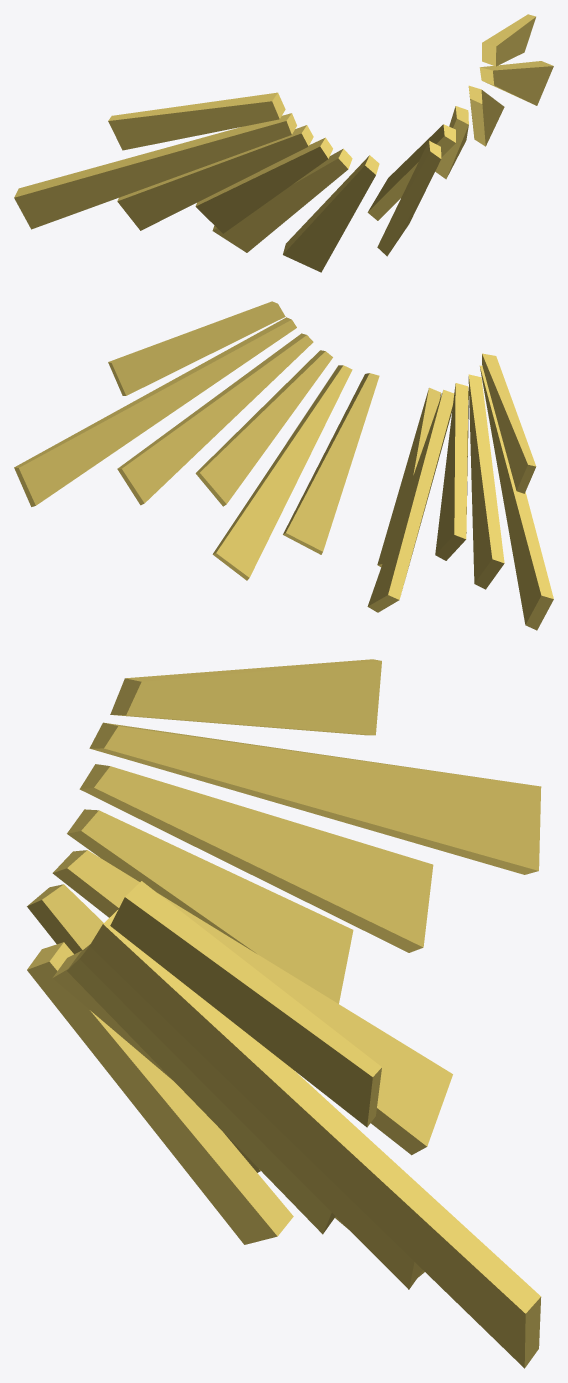
The model's file is wings.fbx.
3 views of the same model, one above another, from view 1: azimuth 30°, elevation 25°; view 2: azimuth 150°, elevation 25°; view 3: azimuth 270°, elevation 25° (orthographic). The views are drawn at different scales.
Visible parts, largest first — view 1: Wings.001; view 2: Wings.001; view 3: Wings.001.
Boxes of the visible parts, x1,y1,x2,y2 form: Wings.001: (14,14,553,272); Wings.001: (14,301,553,630); Wings.001: (27,659,541,1368).
Bounding box in the file's own units: 3.87 × 1.6 × 1.5.
